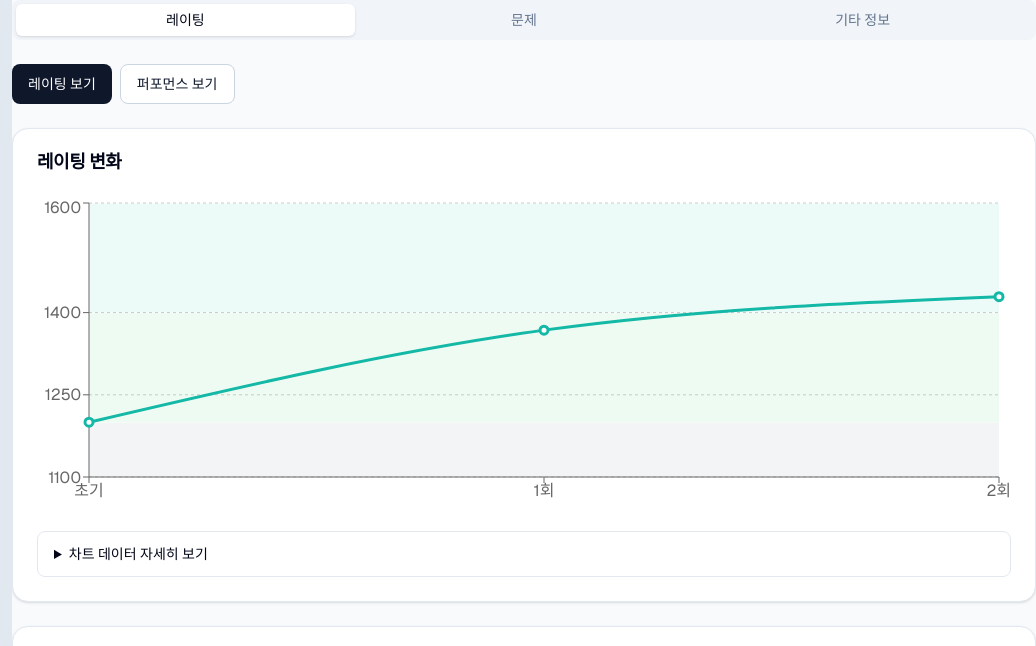
Test: UserDashboardTabs › supports arrow-key navigation and preserves inactive panel state without remounting
Click the button "퍼포먼스 보기": click(177, 84) x1=120 y1=64 x2=234 y2=104
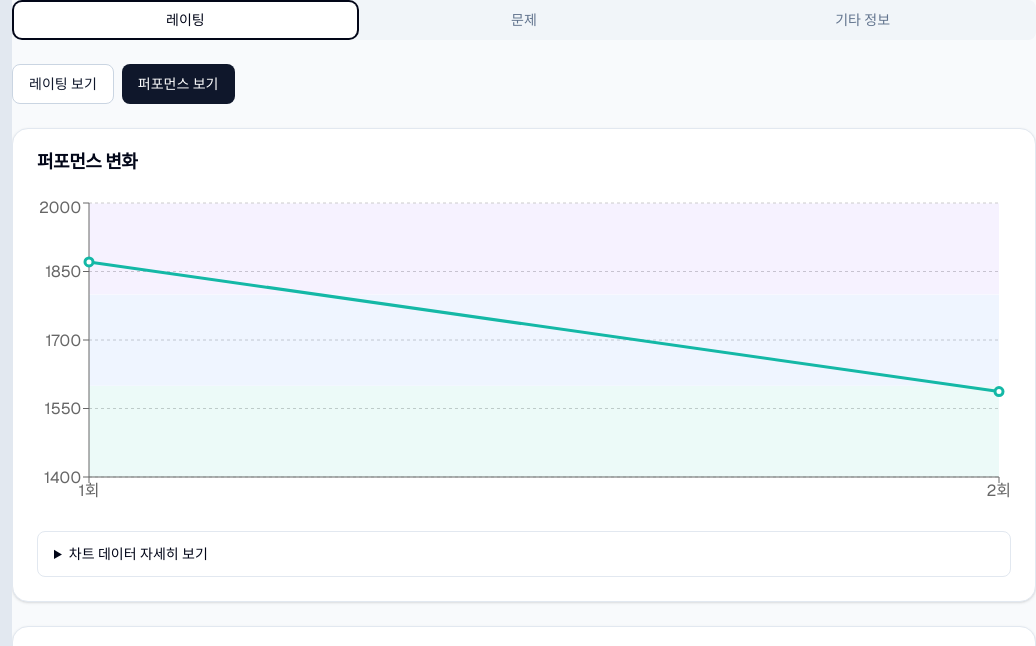
Now the heading "퍼포먼스 변화" is shown, box x1=37 y1=150 x2=138 y2=173
Press Arrowright
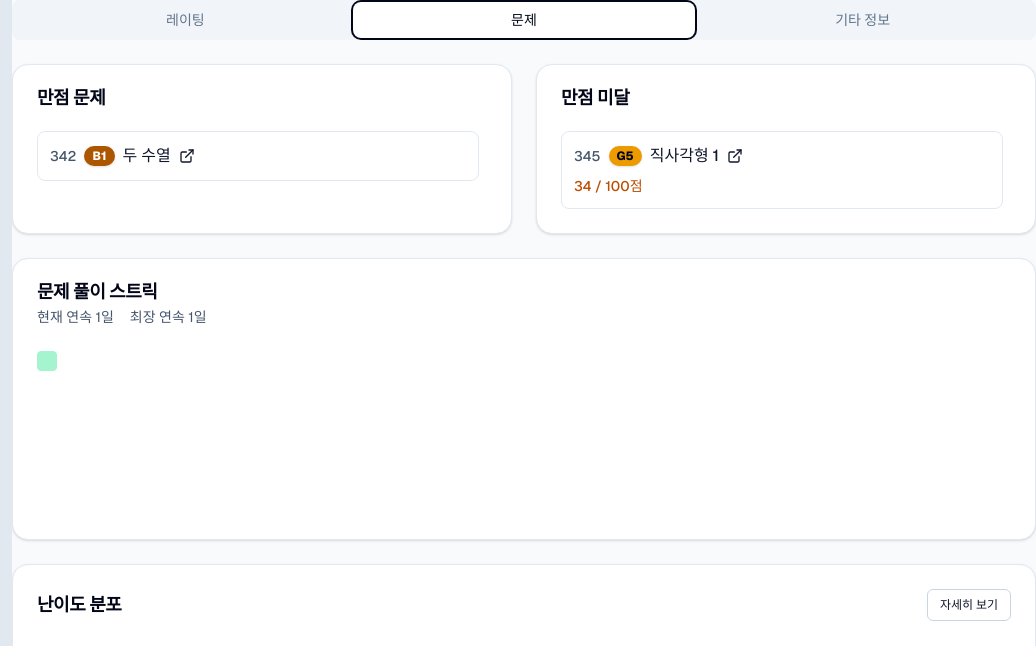
Now the tab "문제" has attribute data-state="active", box x1=355 y1=4 x2=693 y2=36
Click the tab "레이팅": click(185, 20) x1=16 y1=4 x2=355 y2=36
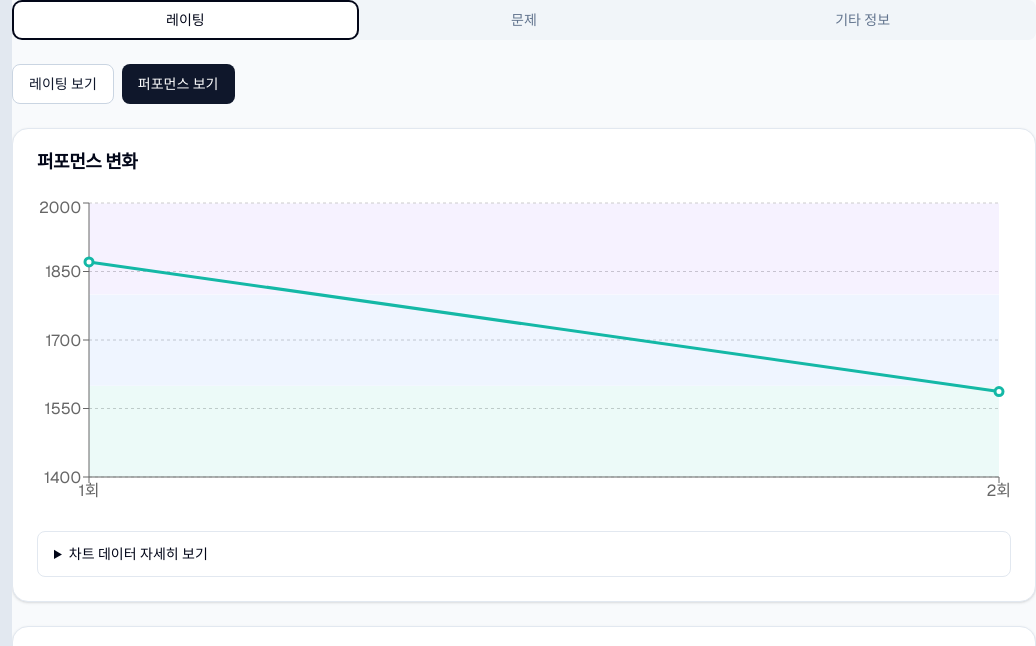
Now the heading "퍼포먼스 변화" is shown, box x1=37 y1=150 x2=138 y2=173
